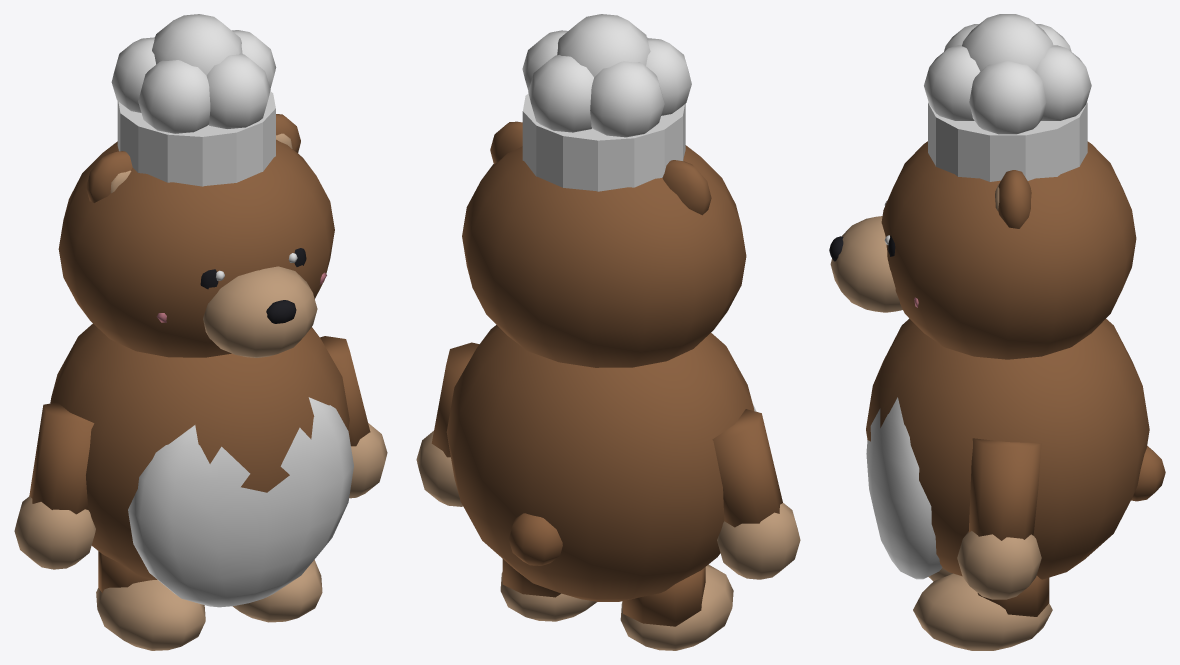
Rendered from bear.glb.
3 renders of one model, left to right at view 1: azimuth 30°, elevation 25°; view 2: azimuth 150°, elevation 25°; view 3: azimuth 270°, elevation 25°, orthographic. The views are drawn at different scales.
Visible parts, largest first — view 1: head, body, apron, hat, arm_R, leg_R, arm_L, leg_L; view 2: body, head, hat, arm_R, leg_R, arm_L, leg_L, tail; view 3: head, body, hat, arm_L, apron, leg_L, tail.
Boxes of the visible parts, box(x1,y1,x2,y2) form: head: box(58, 114, 334, 357); body: box(50, 324, 349, 579); apron: box(128, 397, 353, 607); hat: box(111, 14, 276, 186); arm_R: box(14, 402, 95, 569); leg_R: box(96, 551, 205, 650); arm_L: box(320, 336, 387, 498); leg_L: box(233, 560, 322, 622); body: box(446, 325, 754, 601); head: box(462, 121, 746, 367); hat: box(522, 14, 691, 191); arm_R: box(712, 409, 800, 579); leg_R: box(620, 564, 733, 650); arm_L: box(416, 342, 479, 506); leg_L: box(500, 559, 597, 621); tail: box(508, 513, 562, 565); head: box(829, 141, 1136, 359); body: box(866, 318, 1149, 579); hat: box(924, 14, 1091, 181); arm_L: box(957, 438, 1041, 599); apron: box(866, 397, 942, 579); leg_L: box(913, 573, 1052, 650); tail: box(1131, 446, 1165, 501).
Size of the model in its own units: 0.9993 by 1.59 by 0.811.
